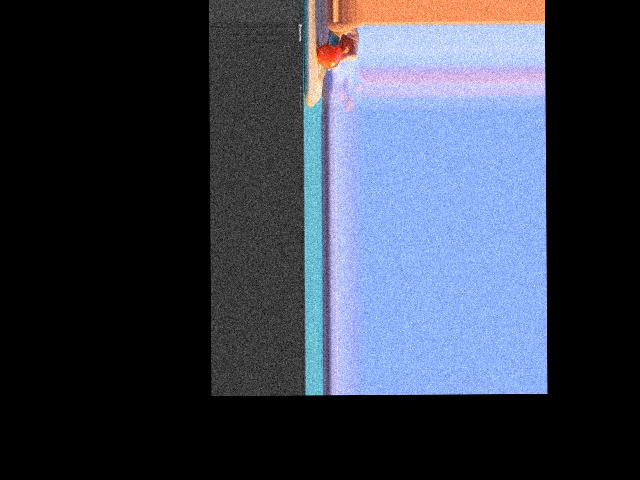tomato: (316, 43, 341, 69)
